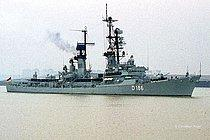MIL_Ship: (5, 11, 203, 98)
